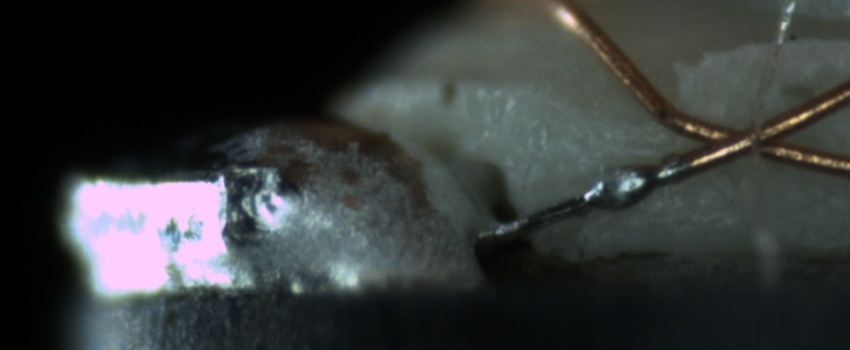CL: (661, 95, 823, 182)
DL: (563, 132, 704, 176)
TB: (582, 154, 656, 219)
TS: (484, 153, 692, 245)
TTCW: (490, 147, 735, 244)
